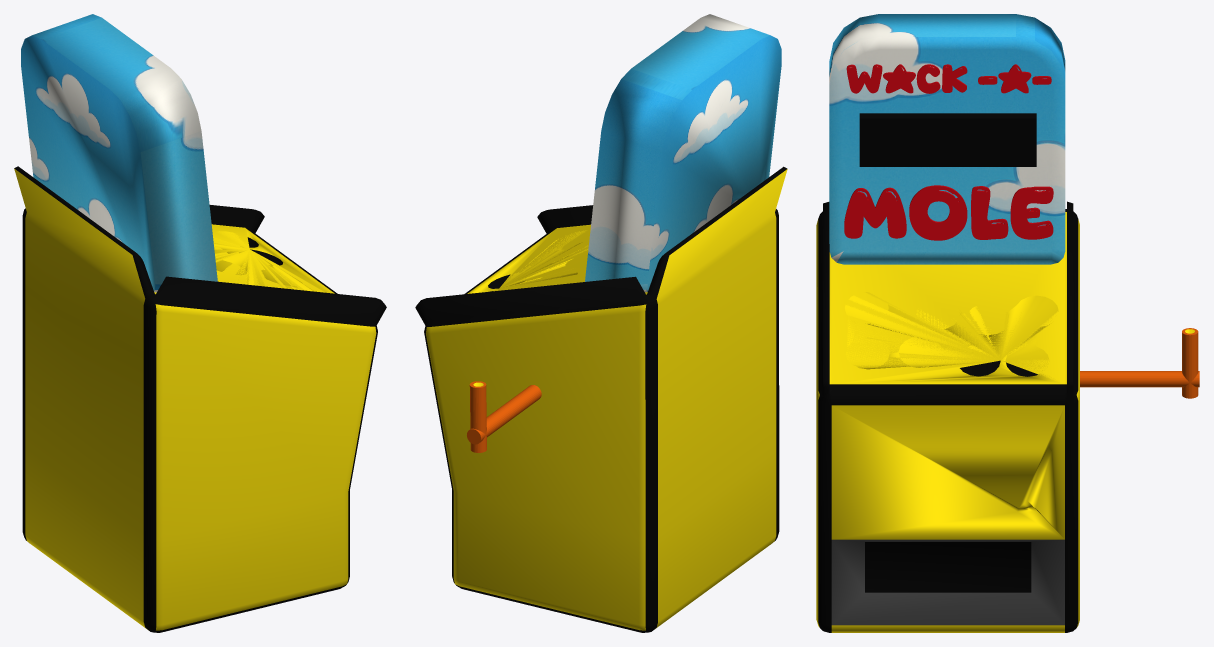
The model's file is Wack-A-Mole.fbx.
3 views of the same model, side by side, from view 1: azimuth 30°, elevation 25°; view 2: azimuth 150°, elevation 25°; view 3: azimuth 270°, elevation 25° (orthographic).
Visible parts, largest first — view 1: Cube.002; view 2: Cube.002; view 3: Cube.002.
Boxes of the visible parts, box(x1,y1,x2,y2) form: Cube.002: box(14, 14, 386, 632); Cube.002: box(415, 14, 787, 632); Cube.002: box(816, 14, 1199, 632).
Bounding box in the file's own units: 217 × 442 × 291.
